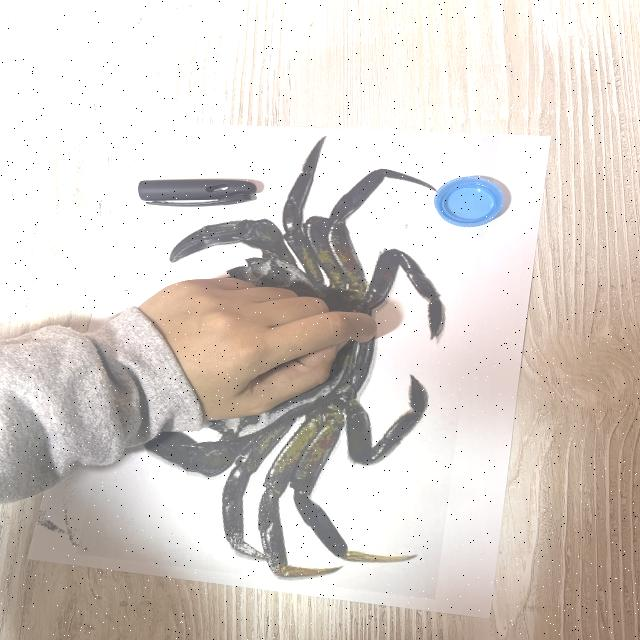European_Green_Crab: (112, 125, 465, 588)
